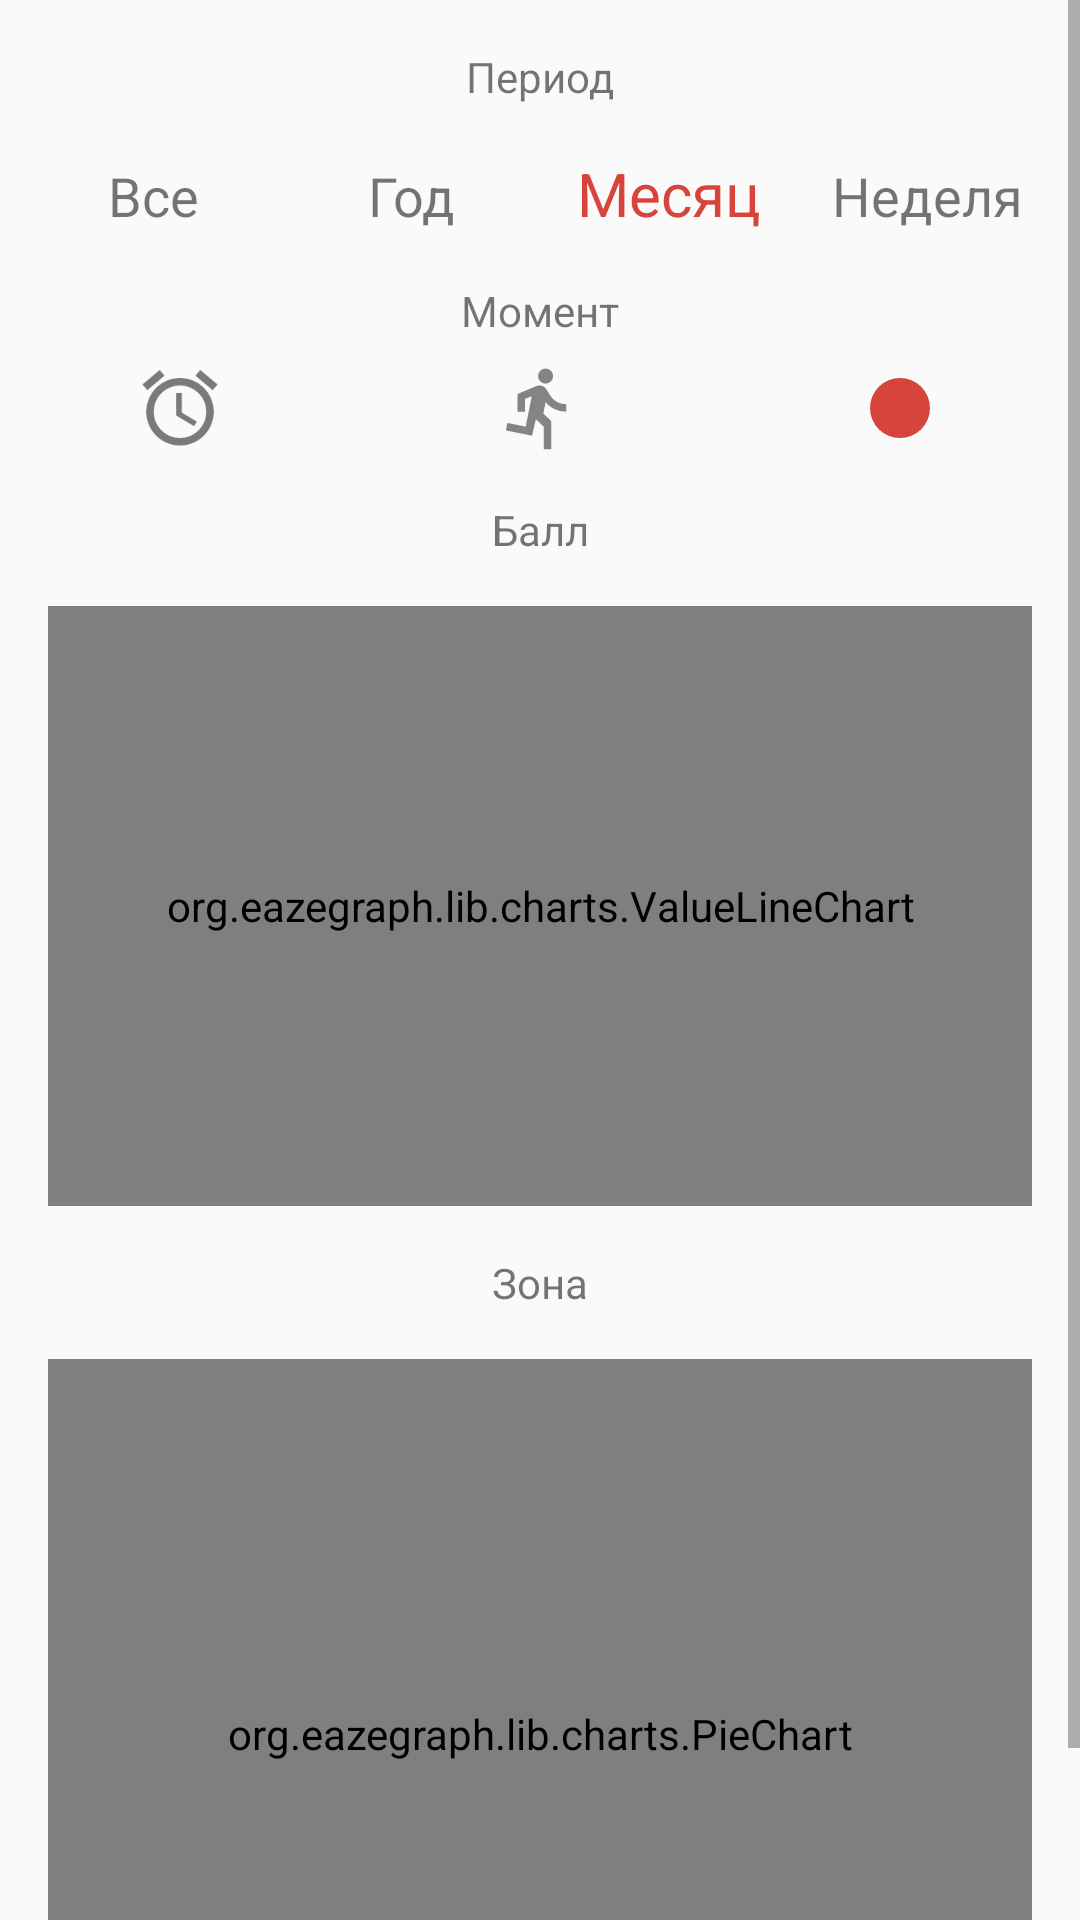

Point at icon controls on the screen. Image size 1080 × 1920, points as (x=x, y=y).
alarm: (x=180, y=408)
training: (x=536, y=409)
